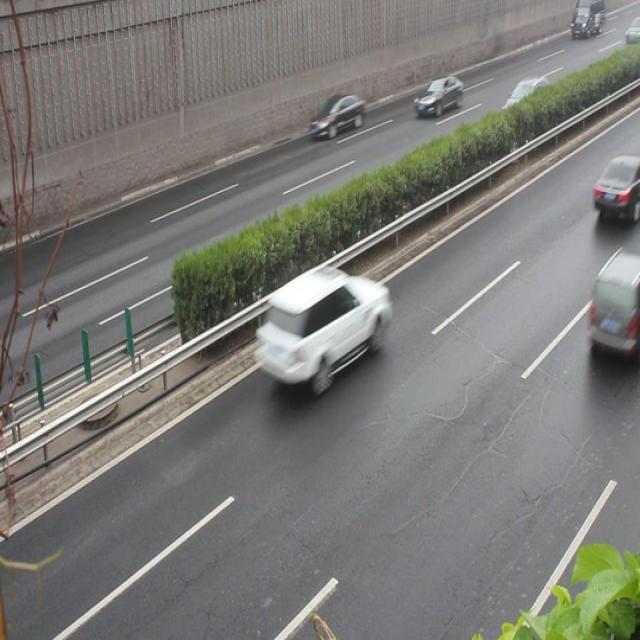car: (255, 266, 386, 386), (588, 249, 640, 358), (592, 154, 640, 224), (307, 90, 365, 142), (495, 79, 550, 125), (412, 76, 462, 120)
